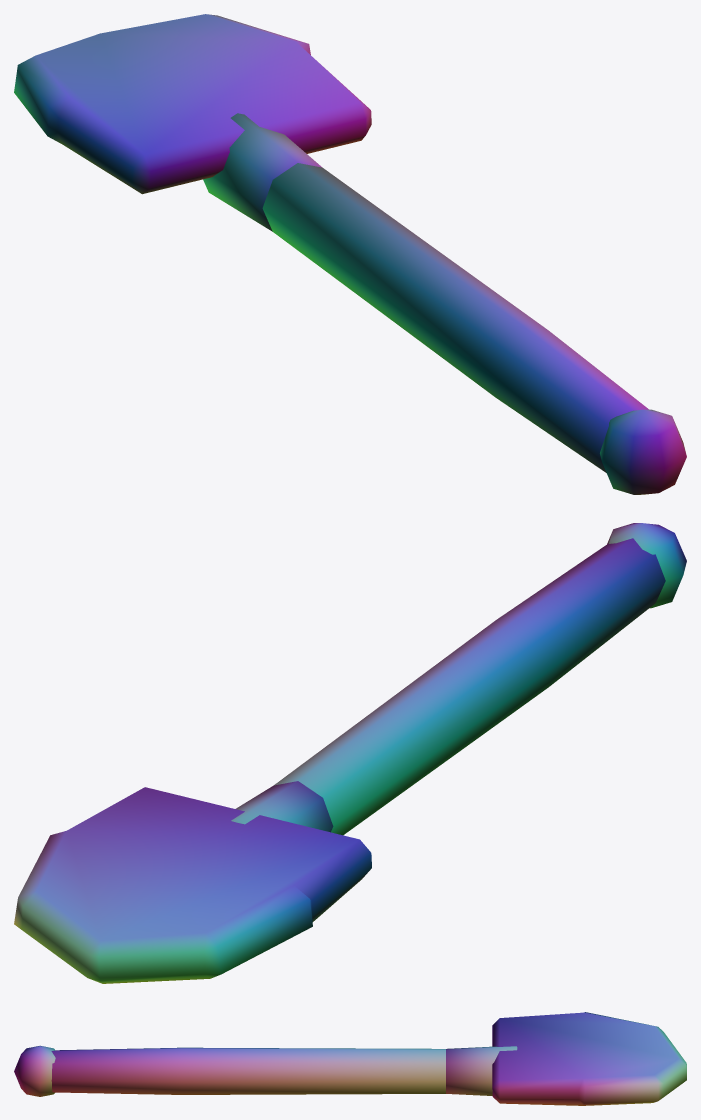
Rendered from SM_MonWeapon_Shovel.fbx.
3 renders of one model, top to bottom at view 1: azimuth 30°, elevation 25°; view 2: azimuth 150°, elevation 25°; view 3: azimuth 270°, elevation 25°, orthographic. The views are drawn at different scales.
Parts seen in each view (by area): view 1: SM_MonWeapon_Shovel; view 2: SM_MonWeapon_Shovel; view 3: SM_MonWeapon_Shovel.
Part boxes in pixels (x1=…): SM_MonWeapon_Shovel: x1=14, y1=14, x2=686, y2=494; SM_MonWeapon_Shovel: x1=14, y1=523, x2=686, y2=983; SM_MonWeapon_Shovel: x1=14, y1=1012, x2=686, y2=1105.
Bounding box in the file's own units: 0.2411 × 0.0762 × 0.9019.
